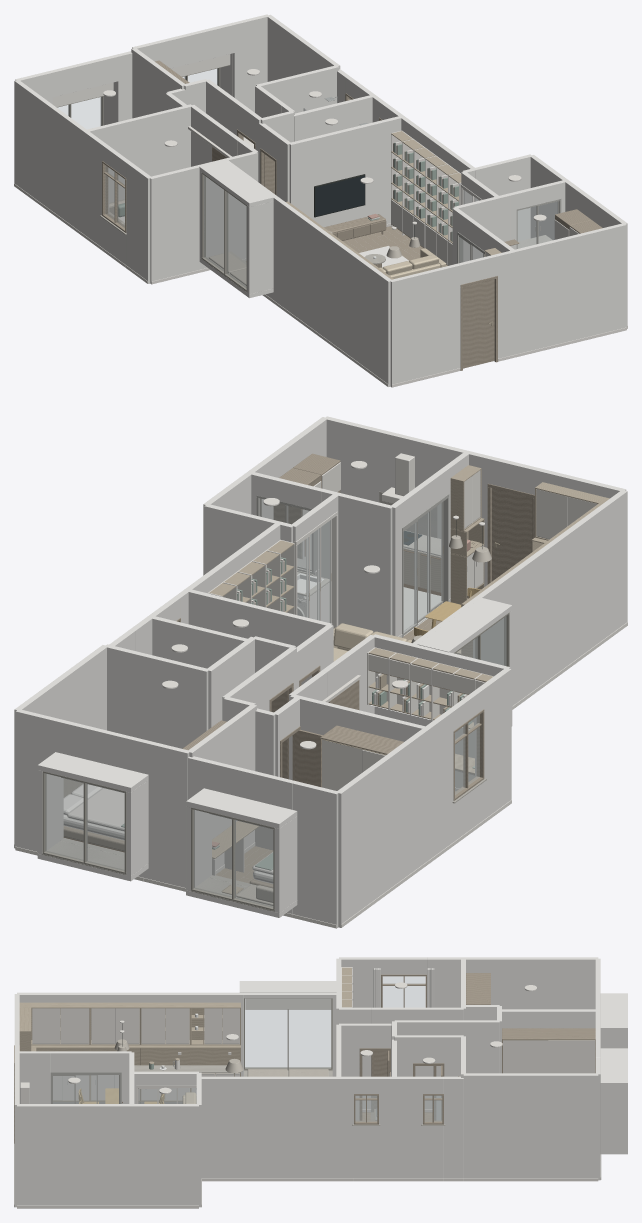
The model's file is huiyayuan-wood.glb.
3 views of the same model, one above another, from view 1: azimuth 30°, elevation 25°; view 2: azimuth 150°, elevation 25°; view 3: azimuth 270°, elevation 25° (orthographic). The views are drawn at different scales.
Visible parts, largest first — view 1: Wall 04 / pier.001, Wall 03 / pier.001, Wall 01 / pier, Wall 23 / pier, Wall 04 / pier, Wall 02 / pier, Wall 15 / pier, Wall 05 / pier, Wall 00 / pier.003, Wall 01 / pier.001, entry_door / oak door leaf, Wall 07 / pier (+36 smaller); view 2: Wall 03 / pier.001, Wall 01 / pier, Wall 20 / pier, Wall 10 / pier, Wall 04 / pier.001, Wall 00 / pier, Wall 00 / pier.002, Wall 00 / pier.003, Wall 07 / pier, Wall 23 / pier, Wall 01 / pier.001, Wall 05 / pier (+64 smaller); view 3: Wall 05 / pier, Wall 07 / pier.003, Wall 07 / pier, Wall 01 / pier, Wall 07 / pier.002, Wall 03 / pier.001, window_living_west / bay clear glazing panel.001, Wall 14 / pier, window_living_west / bay clear glazing panel, Wall 07 / pier.001, Wall 12 / pier, window_a / bay solid return.001 (+58 smaller).
Part boxes in pixels (box(x1,y1,x2,y2)): Wall 04 / pier.001: box(495, 223, 626, 358); Wall 03 / pier.001: box(271, 195, 392, 386); Wall 01 / pier: box(14, 80, 106, 247); Wall 23 / pier: box(289, 116, 401, 227); Wall 04 / pier: box(390, 263, 460, 387); Wall 02 / pier: box(150, 159, 225, 284); Wall 15 / pier: box(85, 104, 192, 202); Wall 05 / pier: box(530, 155, 627, 328); Wall 00 / pier.003: box(232, 14, 269, 112); Wall 01 / pier.001: box(126, 161, 151, 283); entry_door / oak door leaf: box(463, 279, 494, 368); Wall 07 / pier: box(267, 14, 340, 81); Wall 03 / pier.001: box(473, 490, 627, 705); Wall 01 / pier: box(336, 710, 453, 927); Wall 20 / pier: box(104, 644, 209, 748); Wall 10 / pier: box(322, 489, 393, 634); Wall 04 / pier.001: box(324, 416, 490, 586); Wall 00 / pier: box(292, 781, 339, 928); Wall 00 / pier.002: box(144, 740, 189, 887); Wall 00 / pier.003: box(15, 709, 63, 851); Wall 07 / pier: box(14, 645, 106, 848); Wall 23 / pier: box(186, 589, 332, 684); Wall 01 / pier.001: box(478, 668, 511, 819); Wall 05 / pier: box(203, 417, 326, 575); Wall 05 / pier: box(17, 1104, 198, 1205); Wall 07 / pier.003: box(199, 1076, 353, 1178); Wall 07 / pier: box(463, 1073, 598, 1178); Wall 01 / pier: box(427, 957, 598, 1009); Wall 07 / pier.002: box(379, 1076, 422, 1178); Wall 03 / pier.001: box(17, 992, 243, 1076); window_living_west / bay clear glazing panel.001: box(245, 1009, 287, 1067); Wall 14 / pier: box(436, 1020, 499, 1120); window_living_west / bay clear glazing panel: box(289, 1010, 330, 1067); Wall 07 / pier.001: box(444, 1076, 463, 1178); Wall 12 / pier: box(499, 1009, 598, 1028); window_a / bay solid return.001: box(600, 1087, 627, 1150).
Size of what is drawn, in the model's own units: 8.46 by 2.8 by 14.67.
Materials: 25 (6 with a texture image).
